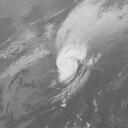cyclone: (56, 42, 92, 86)
